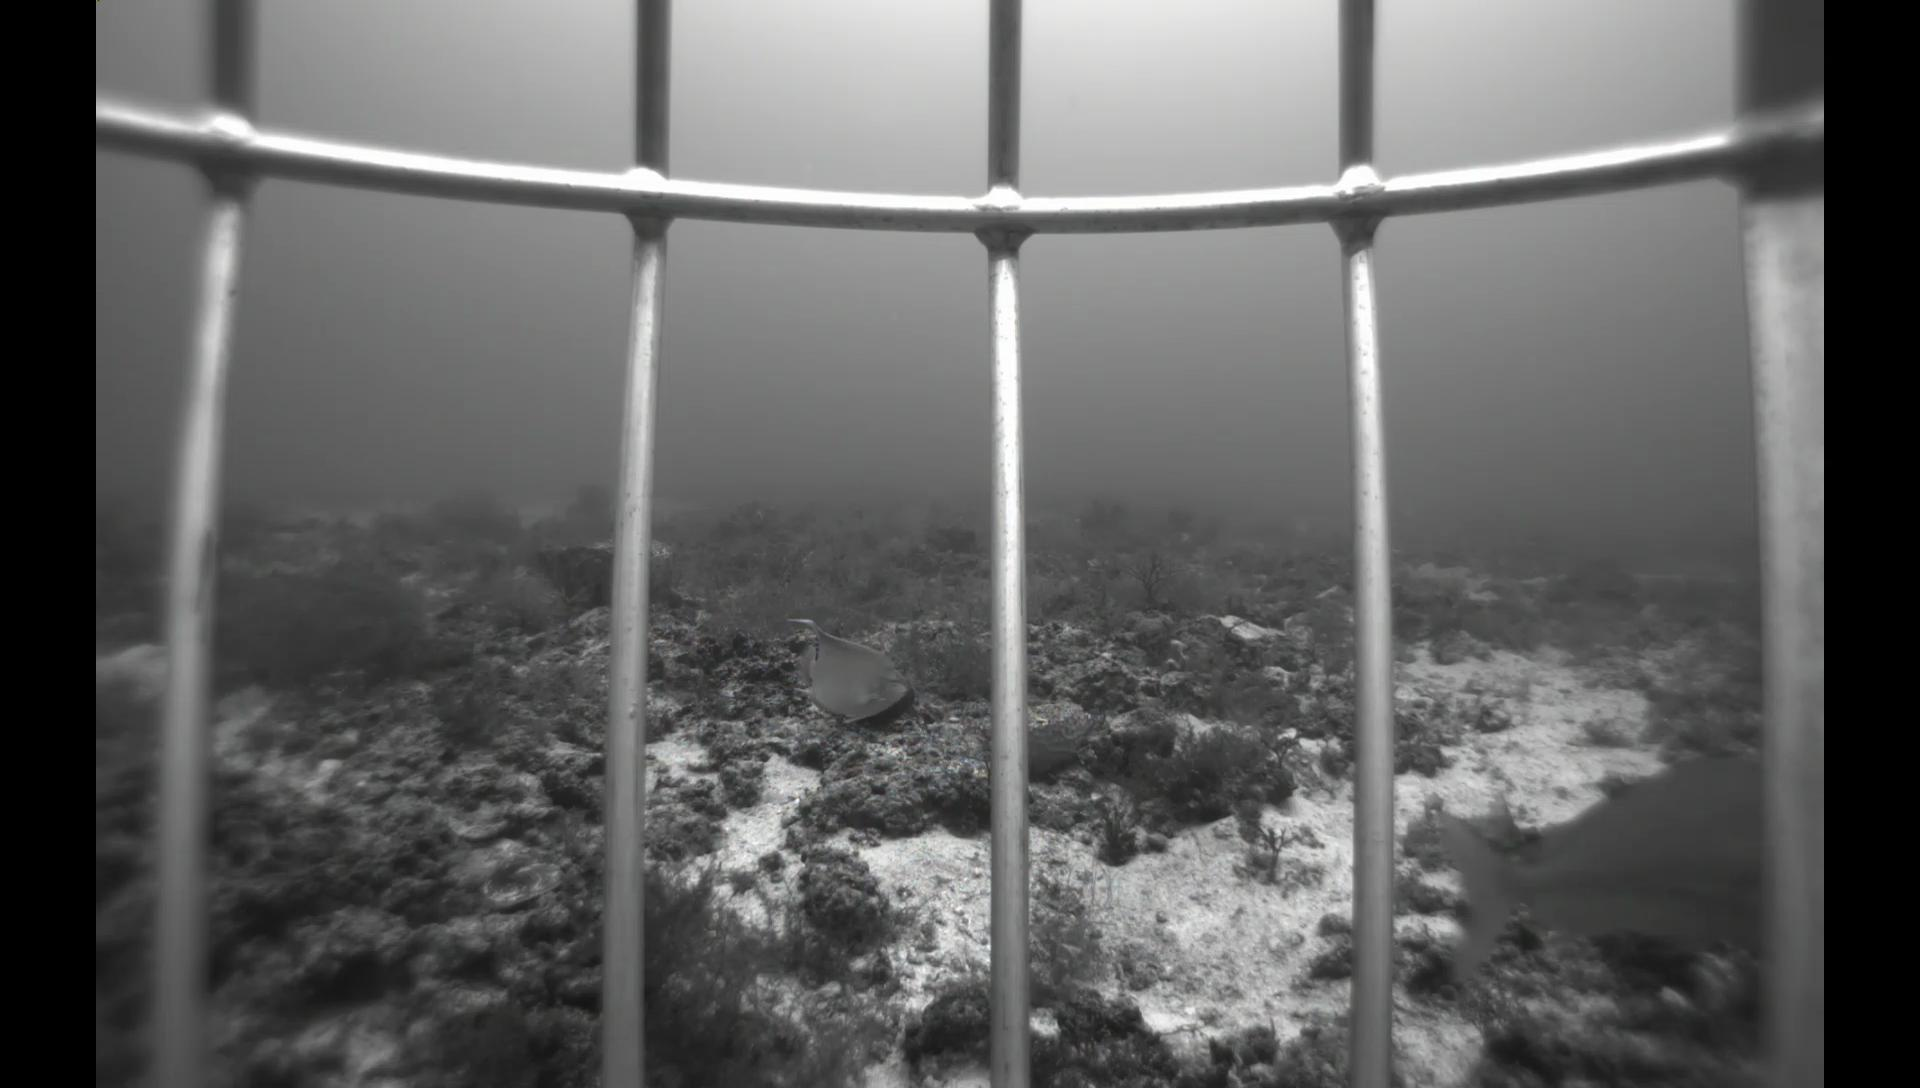CALAMUSNODOSUS-170210608: (1418, 752, 1775, 994)
HOLACANTHUSBERMUDENSIS-170290102: (778, 615, 914, 731)
MYCTEROPERCAPHENAX-170022105: (848, 509, 891, 554)
